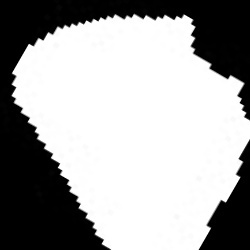spot: (13, 14, 249, 248)
